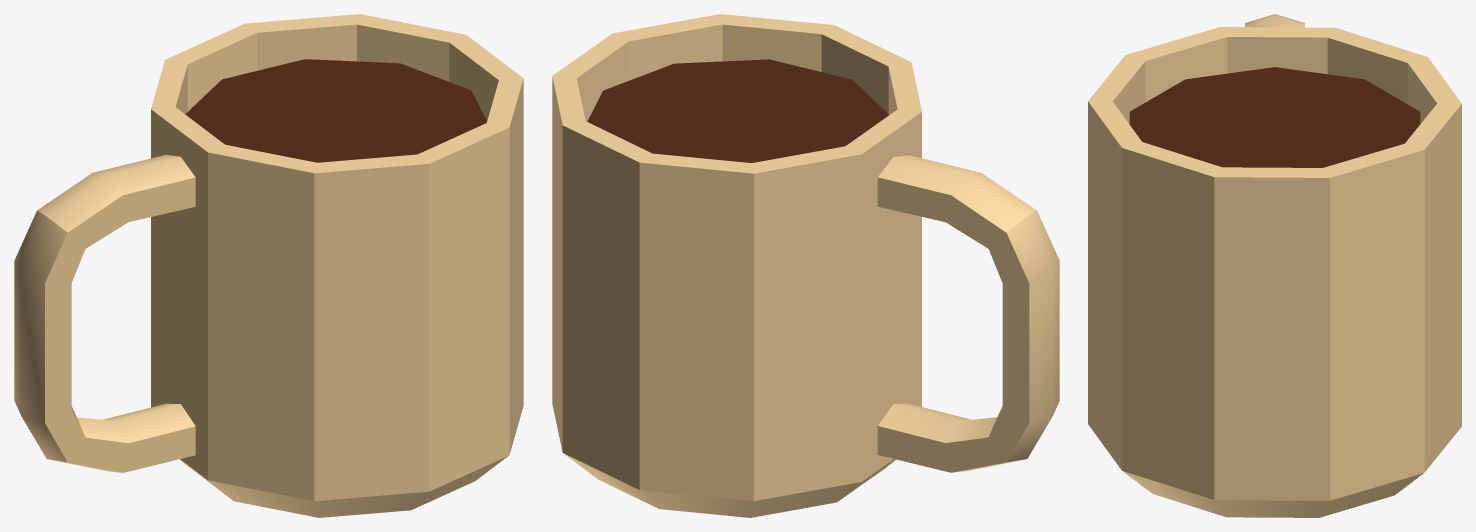
The model's file is PW_cup02.fbx.
The picture shows the model from 3 angles, left to right: view 1: azimuth 30°, elevation 25°; view 2: azimuth 150°, elevation 25°; view 3: azimuth 270°, elevation 25°; orthographic projection.
Parts seen in each view (by area): view 1: cup, coffee; view 2: cup, coffee; view 3: cup, coffee.
Part boxes in pixels (x1=…): cup: x1=14, y1=14, x2=523, y2=517; coffee: x1=185, y1=59, x2=486, y2=162; cup: x1=552, y1=14, x2=1059, y2=517; coffee: x1=587, y1=59, x2=888, y2=162; cup: x1=1088, y1=14, x2=1461, y2=517; coffee: x1=1129, y1=67, x2=1420, y2=167.
Bounding box in the file's own units: 44.86 × 32.67 × 31.18.
1 material, 1 textured.
